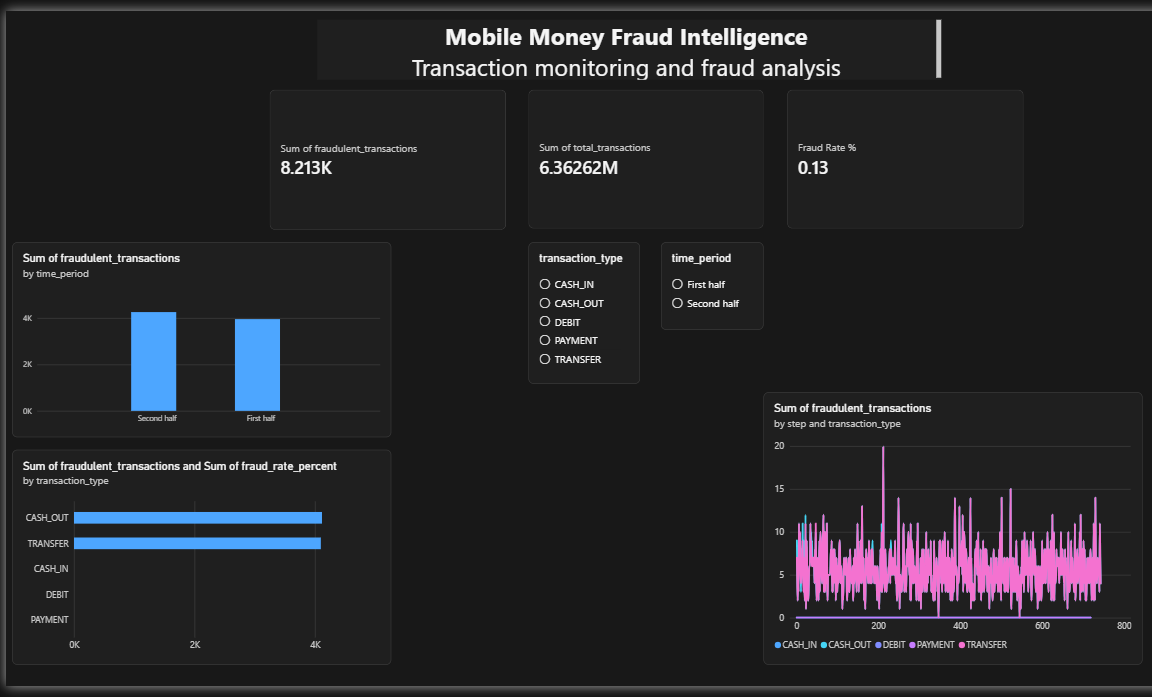

Layout of this report page (visuals, bound fields, positions):
{"tool":"powerbi","page":{"name":"Page 1","canvas":[1920,1080],"ordinal":0},"visuals":[{"type":"cardVisual","fields":{"Data":["Sum(powerbi_dashboard_data.total_transactions)"]},"box":[836,126,376,222],"z":0},{"type":"cardVisual","fields":{"Data":["Sum(powerbi_dashboard_data.fraudulent_transactions)"]},"box":[422,126,378,224],"z":1},{"type":"cardVisual","fields":{"Data":["powerbi_dashboard_data.Fraud Rate %"]},"box":[1250,126,378,222],"z":2},{"type":"clusteredBarChart","fields":{"Category":["powerbi_dashboard_data.transaction_type"],"Y":["Sum(powerbi_dashboard_data.fraudulent_transactions)"]},"box":[10,702,606,344],"z":3},{"type":"lineChart","fields":{"Category":["powerbi_dashboard_data.step"],"Series":["powerbi_dashboard_data.transaction_type"],"Y":["Sum(powerbi_dashboard_data.fraudulent_transactions)"]},"box":[1212,610,606,436],"z":4},{"type":"listSlicer","fields":{"Values":["powerbi_dashboard_data.transaction_type"]},"box":[836,370,178,226],"z":5},{"type":"listSlicer","fields":{"Values":["powerbi_dashboard_data.time_period"]},"box":[1048,370,164,140],"z":6},{"type":"clusteredColumnChart","fields":{"Category":["powerbi_dashboard_data.time_period"],"Y":["Sum(powerbi_dashboard_data.fraudulent_transactions)"]},"box":[10,370,606,312],"z":7},{"type":"textbox","box":[498,14,998,96],"z":8}]}

Visuals, with their boxes on the page's 1920x1080 design canvas (x1, y1, x2, y2). These are canvas units, not pixel positions in the 1152x697 screenshot, which may show the page scaled, cropped or inside an application window:
cardVisual - Sum(powerbi_dashboard_data.total_transactions): detection(836, 126, 1212, 348)
cardVisual - Sum(powerbi_dashboard_data.fraudulent_transactions): detection(422, 126, 800, 350)
cardVisual - powerbi_dashboard_data.Fraud Rate %: detection(1250, 126, 1628, 348)
clusteredBarChart - powerbi_dashboard_data.transaction_type x Sum(powerbi_dashboard_data.fraudulent_transactions): detection(10, 702, 616, 1046)
lineChart - powerbi_dashboard_data.step x powerbi_dashboard_data.transaction_type: detection(1212, 610, 1818, 1046)
listSlicer - powerbi_dashboard_data.transaction_type: detection(836, 370, 1014, 596)
listSlicer - powerbi_dashboard_data.time_period: detection(1048, 370, 1212, 510)
clusteredColumnChart - powerbi_dashboard_data.time_period x Sum(powerbi_dashboard_data.fraudulent_transactions): detection(10, 370, 616, 682)
textbox: detection(498, 14, 1496, 110)
